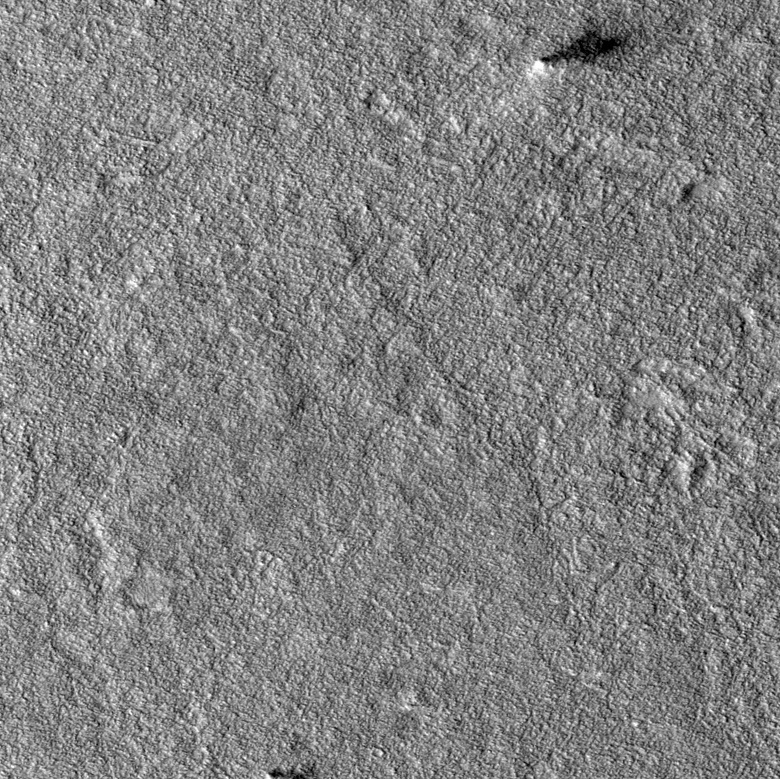dust_devil: (528, 24, 637, 79)
